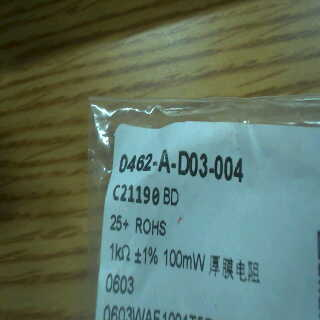1kR: (104, 239, 131, 265)
